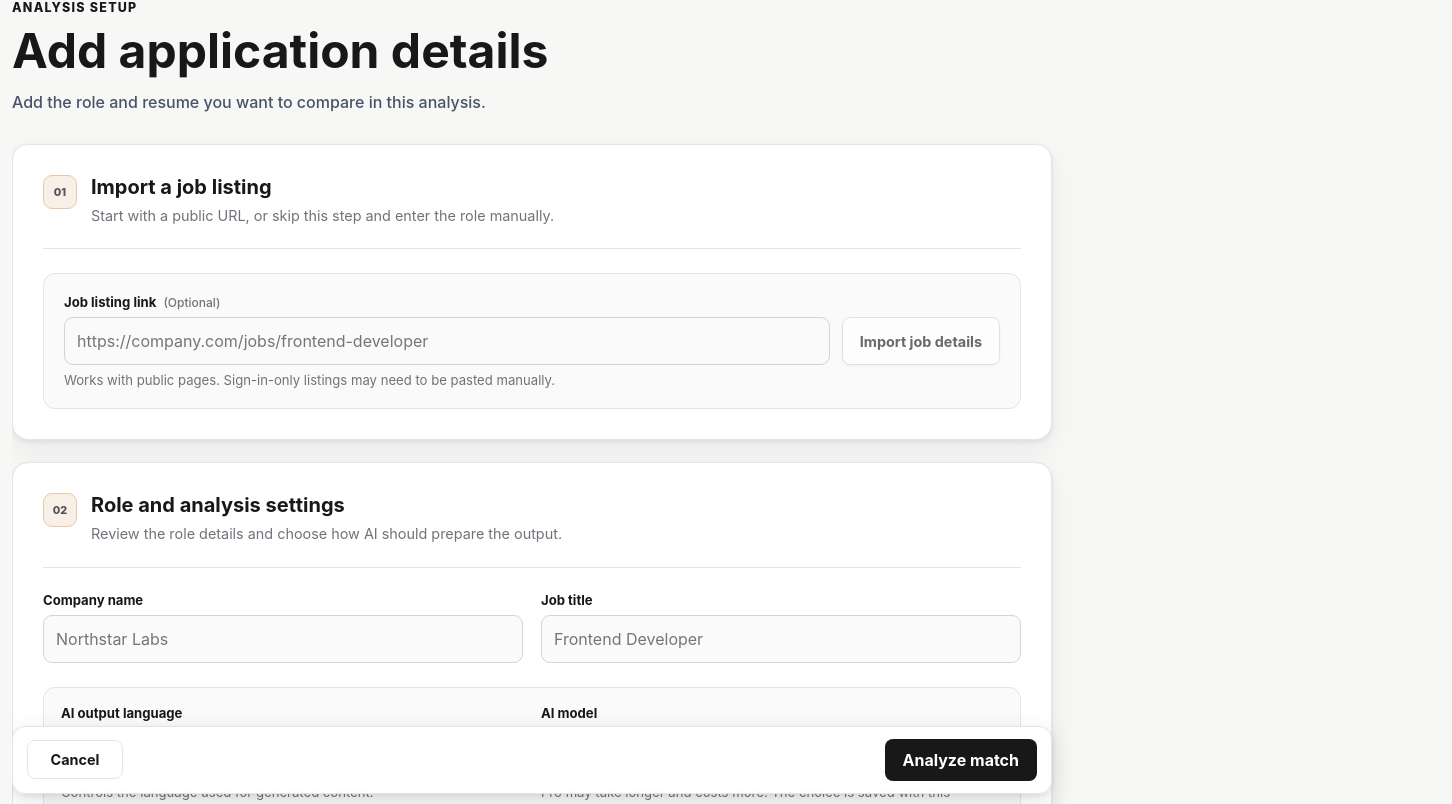
Test: NewApplicationPage › shows validation messages when required fields are empty
The width and height of the screenshot is (1452, 804).
Click the button "Analyze match" at (961, 760), box x1=884 y1=739 x2=1037 y2=781
(page scrolled)
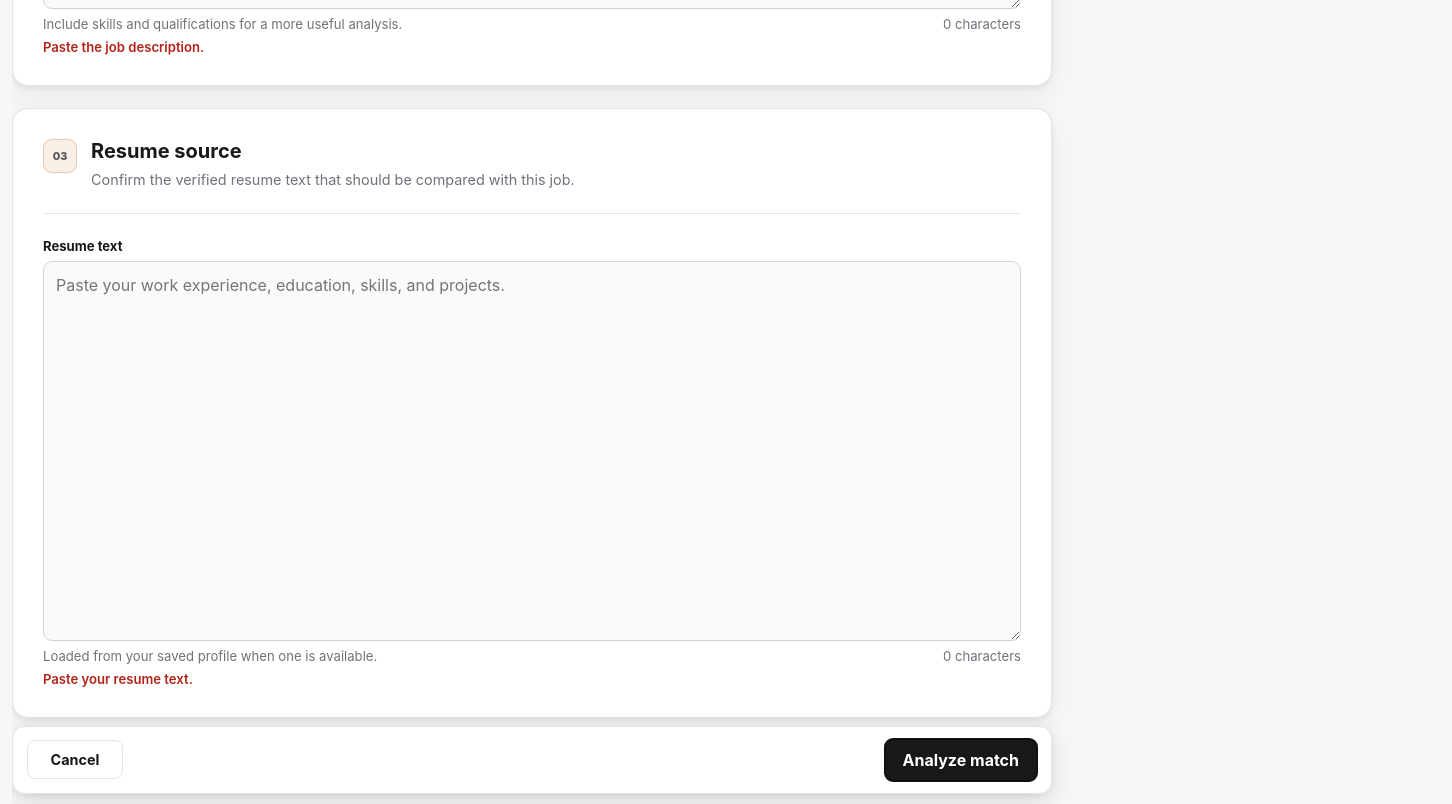
Expected: the text "Paste the job description." is shown, x1=43 y1=39 x2=204 y2=55
Expected: the text "Paste your resume text." is shown, x1=43 y1=671 x2=193 y2=687
